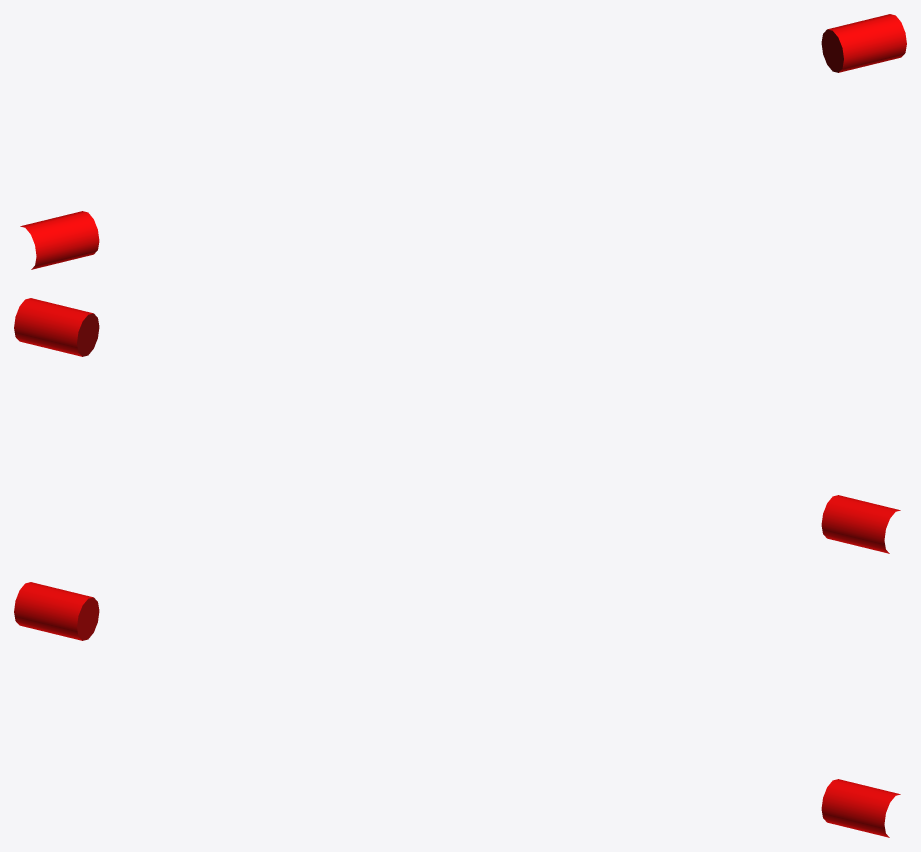
3 renders of one model, top to bottom at view 1: azimuth 30°, elevation 25°; view 2: azimuth 150°, elevation 25°; view 3: azimuth 330°, elevation 25°, orthographic.
Visible parts, largest first — view 1: Joint_0_Object_1, Joint_0_Object_0; view 2: Joint_0_Object_1, Joint_0_Object_0; view 3: Joint_0_Object_0, Joint_0_Object_1.
Boxes of the visible parts, x1,y1,x2,y2 form: Joint_0_Object_1: (821, 14, 906, 72); Joint_0_Object_0: (20, 211, 99, 269); Joint_0_Object_1: (14, 298, 99, 356); Joint_0_Object_0: (821, 495, 900, 553); Joint_0_Object_0: (14, 582, 99, 640); Joint_0_Object_1: (821, 779, 900, 837).
Size of the model in its own units: 2200 by 98.54 by 98.54.
1 material, 1 textured.
